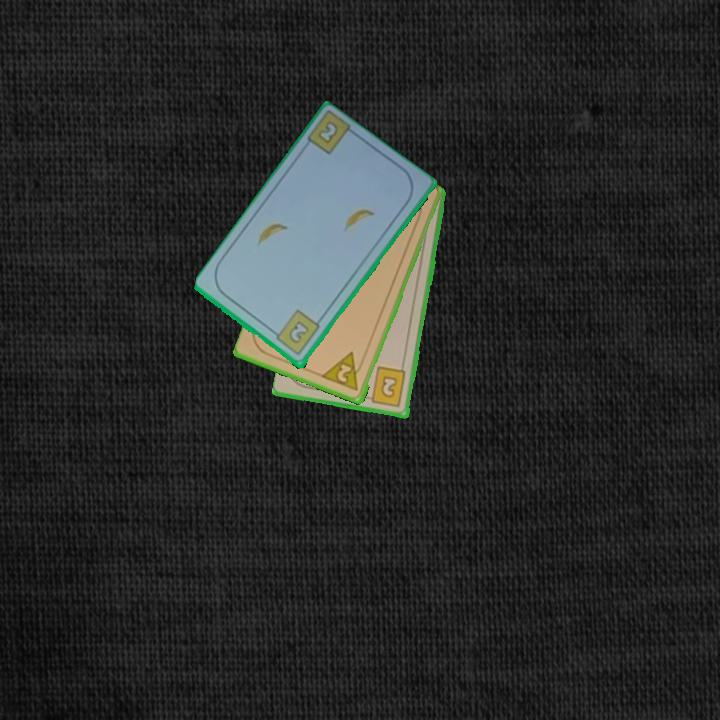2b: (269, 307, 323, 358), (362, 364, 409, 410), (316, 120, 339, 144)
2p: (320, 349, 367, 395)
